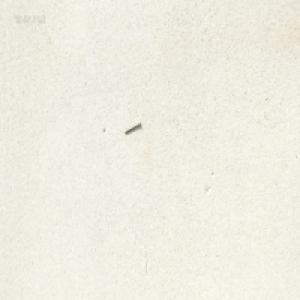Bolt: (124, 120, 140, 134)
